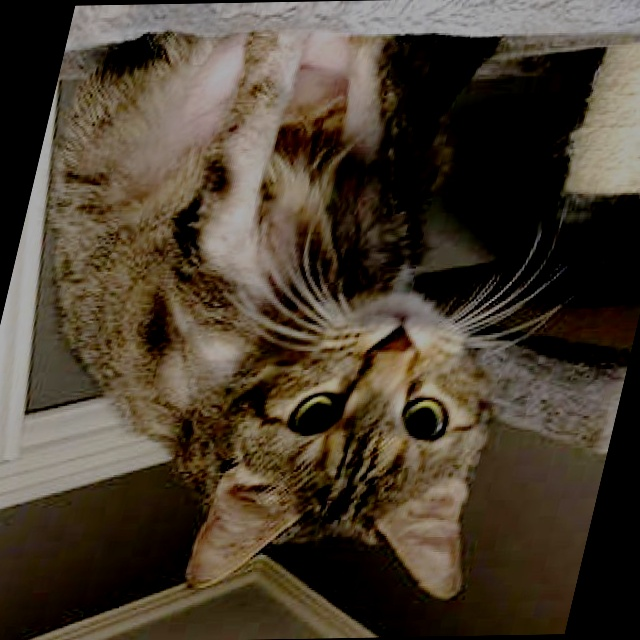hairloss: (207, 92, 289, 264), (158, 39, 237, 178), (325, 37, 407, 147)
